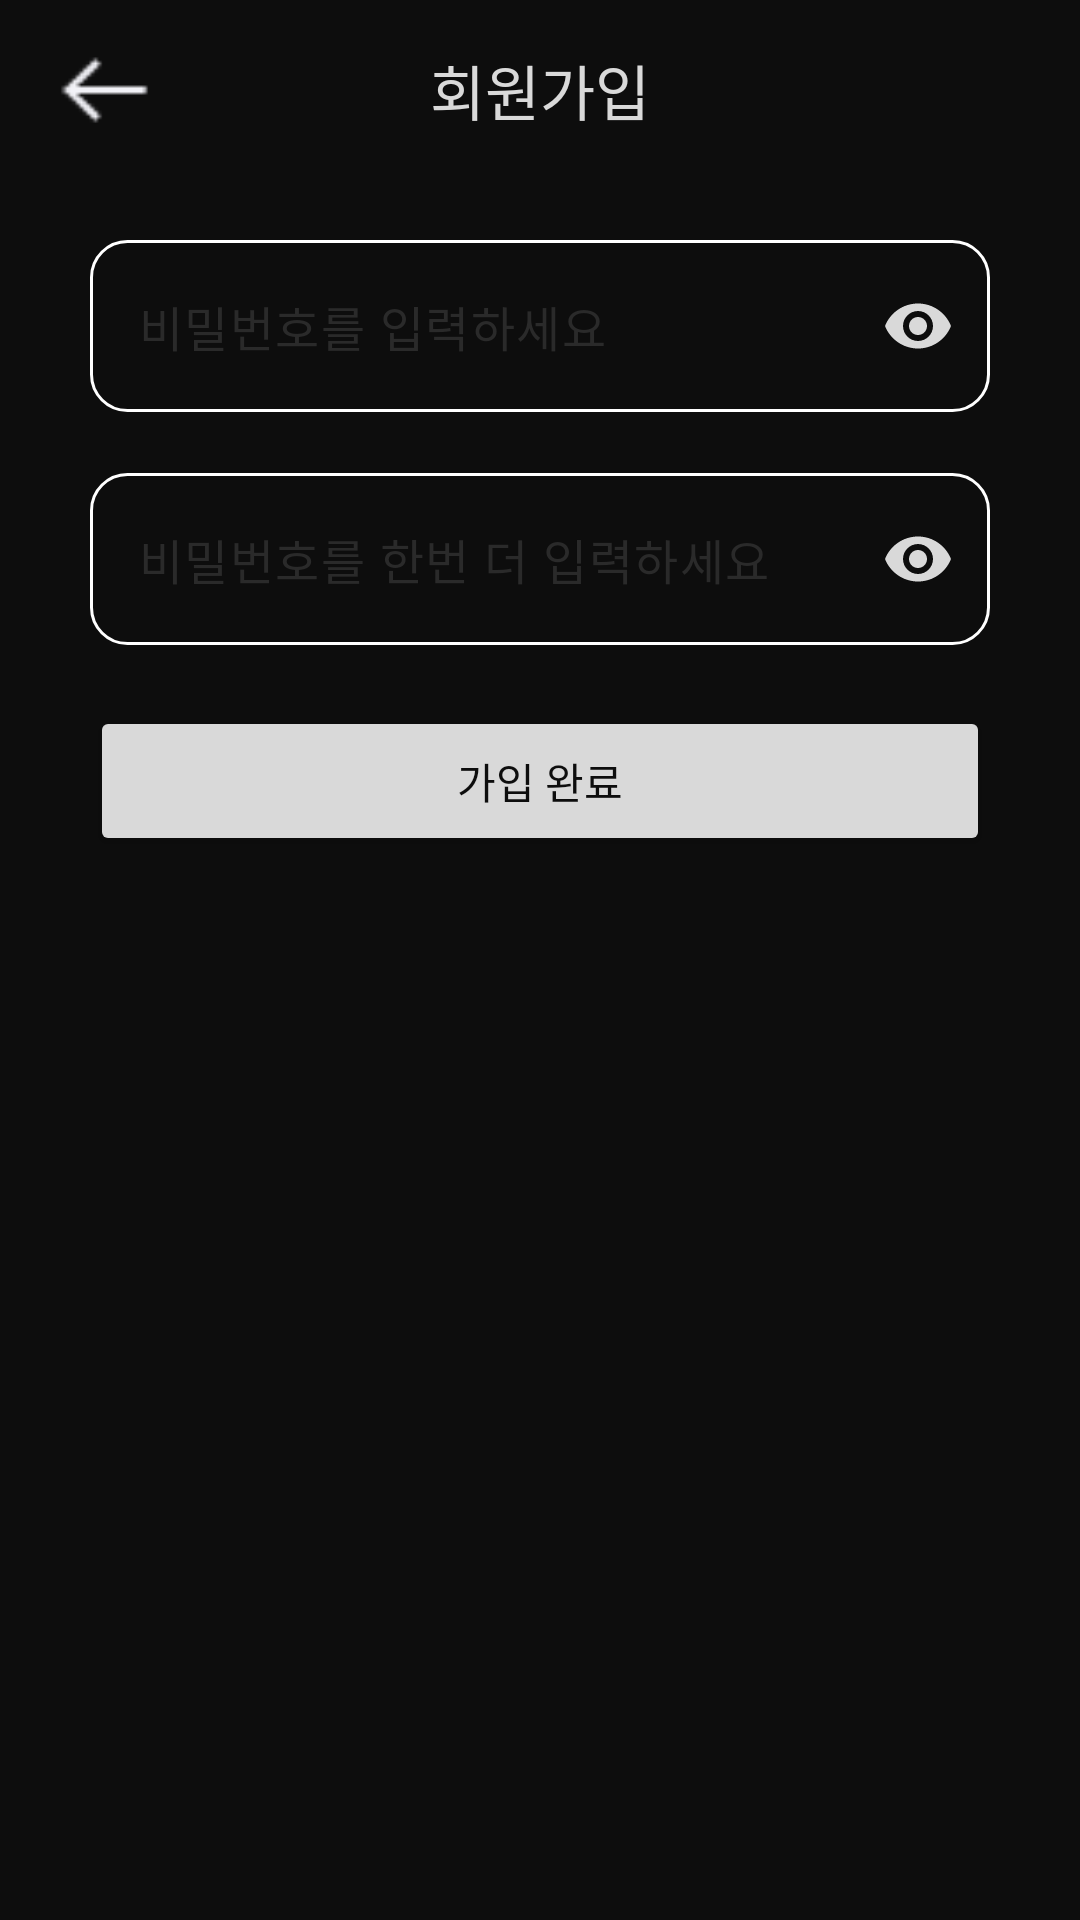

Icons on this 1080 x 1920 Android screen, each with its box as (x1, y1, x2, y2):
뒤로가기: (61, 57, 148, 123)
